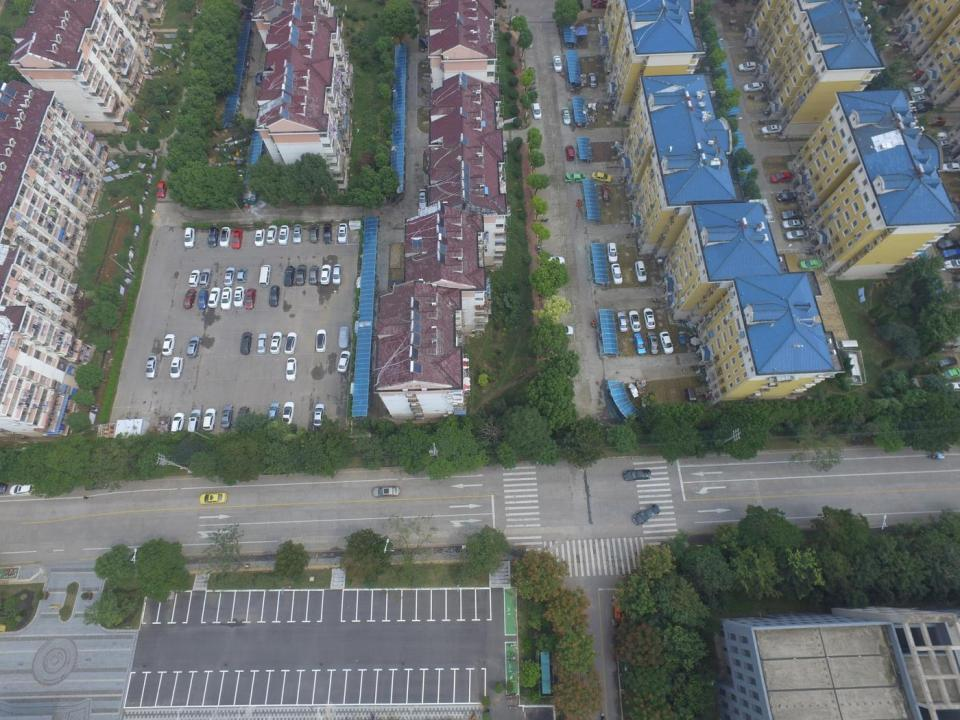car: (619, 650, 644, 686), (633, 504, 660, 525), (186, 409, 203, 433), (658, 331, 674, 354), (169, 355, 184, 379), (198, 492, 228, 504), (186, 336, 202, 358), (170, 412, 186, 434), (623, 469, 652, 481), (202, 408, 217, 431), (546, 324, 574, 336), (220, 286, 233, 311), (145, 355, 158, 379), (282, 401, 295, 425), (646, 330, 659, 354), (284, 332, 298, 354), (336, 350, 350, 372), (372, 486, 400, 497), (633, 333, 647, 355), (137, 152, 154, 170), (182, 288, 197, 308), (162, 333, 175, 356), (337, 326, 350, 349), (237, 406, 250, 429), (240, 331, 252, 355), (313, 403, 325, 427), (221, 404, 233, 428), (564, 172, 588, 184), (200, 267, 213, 289), (223, 266, 236, 288), (208, 286, 221, 308), (283, 265, 296, 287), (268, 285, 281, 307), (643, 307, 656, 329), (634, 260, 647, 282), (10, 484, 36, 495), (233, 286, 245, 309), (285, 357, 296, 382), (219, 227, 232, 248), (157, 415, 170, 436), (606, 242, 619, 263), (244, 287, 256, 309), (270, 332, 282, 354), (278, 224, 290, 246), (611, 263, 623, 285), (781, 219, 805, 230), (799, 258, 823, 269), (769, 172, 792, 183), (775, 191, 798, 202), (780, 209, 803, 220), (184, 227, 196, 248), (207, 227, 219, 248), (629, 310, 641, 331), (265, 225, 278, 244), (267, 402, 280, 421), (257, 332, 268, 354), (617, 311, 628, 333), (742, 81, 764, 92), (761, 124, 783, 135), (336, 223, 348, 243), (316, 329, 326, 353), (785, 230, 809, 240), (188, 270, 201, 288), (296, 264, 307, 285), (320, 264, 331, 285), (331, 264, 342, 285), (542, 256, 565, 266), (232, 229, 243, 249), (254, 227, 265, 247), (291, 224, 302, 244), (84, 481, 108, 490), (591, 172, 612, 182), (309, 224, 320, 243), (737, 61, 756, 72), (198, 289, 208, 309), (322, 224, 332, 244), (156, 180, 167, 198), (561, 107, 572, 125), (418, 188, 427, 210), (591, 0, 610, 10), (236, 267, 248, 282), (309, 264, 318, 284), (532, 102, 542, 119), (601, 183, 610, 200), (553, 55, 562, 72), (566, 144, 575, 160), (588, 72, 597, 88), (528, 66, 536, 84), (524, 31, 532, 48), (420, 36, 431, 48), (255, 72, 264, 85), (95, 143, 108, 152), (528, 86, 536, 100)
truck: (611, 591, 636, 633)
van: (258, 264, 272, 287), (685, 387, 698, 406)
